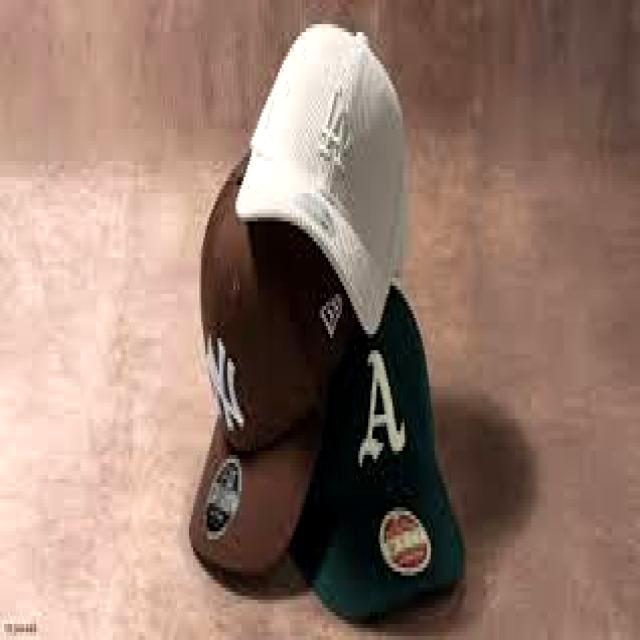hat: (190, 162, 358, 575), (292, 290, 464, 619), (238, 25, 406, 334)
